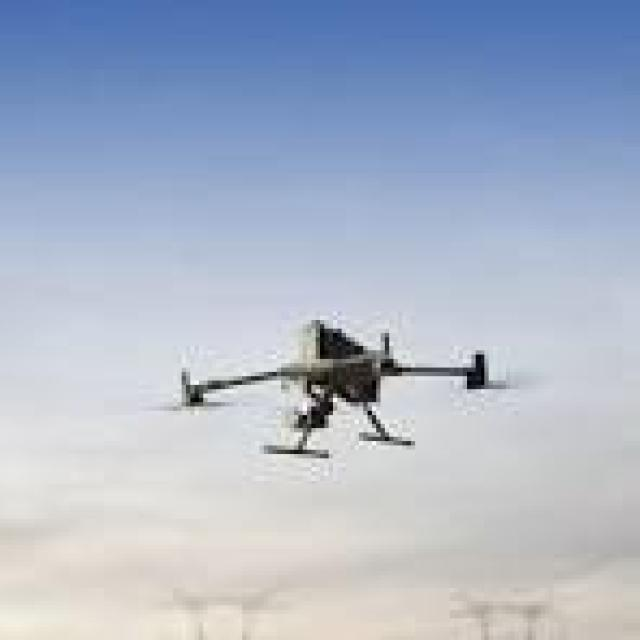UAV - Drone: (72, 281, 580, 556)
